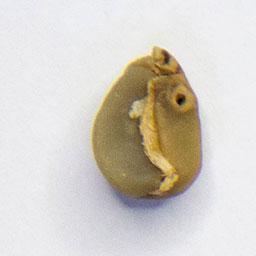defect: (88, 42, 205, 204)
